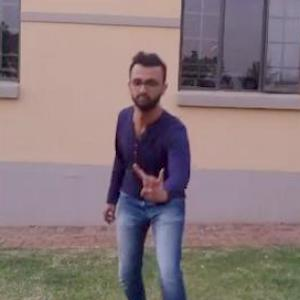takeoff-hand: (129, 152, 171, 208)
